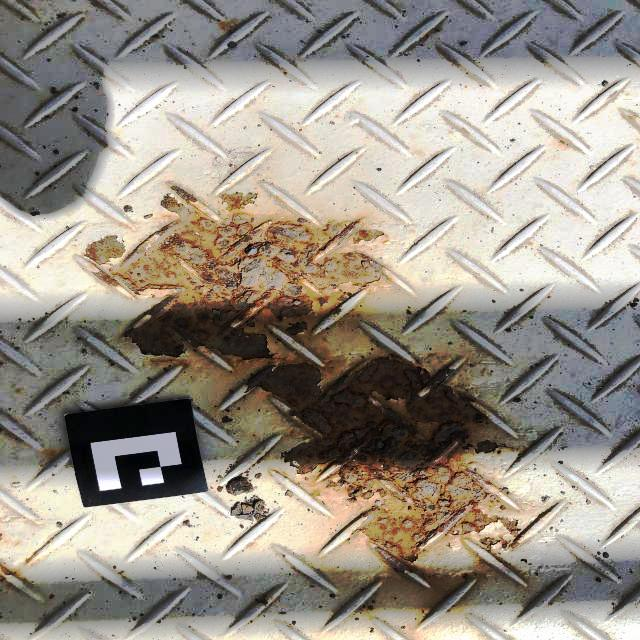Corrosion: (241, 351, 527, 582), (88, 183, 399, 369), (78, 232, 128, 269), (217, 190, 263, 214), (274, 196, 304, 215), (0, 560, 20, 583), (284, 320, 310, 336), (24, 550, 42, 565), (604, 90, 621, 103), (118, 219, 135, 232), (254, 595, 271, 607), (45, 449, 62, 461), (277, 551, 292, 564), (219, 19, 236, 30), (625, 114, 639, 125), (460, 126, 471, 135), (244, 541, 257, 547), (0, 530, 4, 544)
